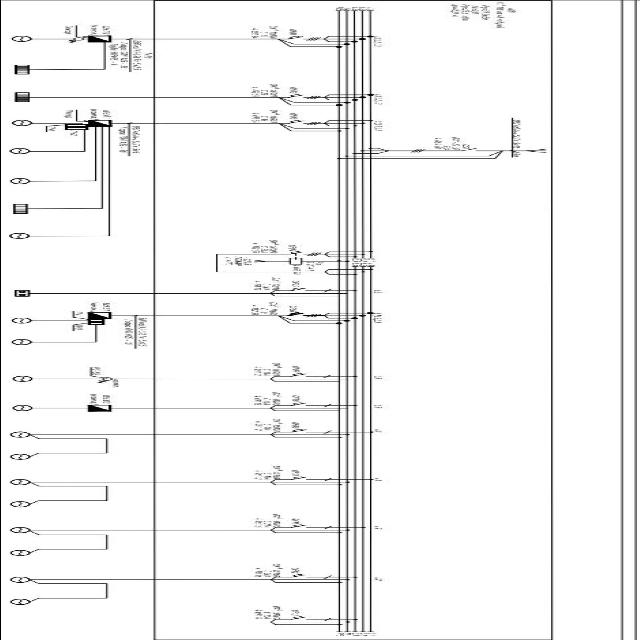-: (493, 1, 517, 28), (429, 136, 462, 150), (248, 302, 280, 316), (249, 362, 281, 376), (247, 83, 279, 97), (250, 418, 282, 432), (249, 392, 281, 406), (248, 25, 280, 39), (250, 514, 282, 528), (249, 276, 281, 290), (250, 466, 282, 480), (247, 109, 279, 123), (250, 564, 282, 578), (252, 606, 284, 620), (247, 240, 279, 253), (290, 262, 324, 274)
ITU: (288, 258, 303, 264)
QF: (287, 615, 331, 621), (288, 573, 332, 579), (288, 524, 332, 530), (288, 476, 332, 482), (288, 428, 332, 434), (288, 402, 332, 408), (288, 372, 332, 378), (290, 287, 334, 293), (282, 312, 322, 318), (283, 250, 323, 256), (280, 120, 320, 126), (283, 94, 323, 100), (284, 36, 324, 42)
QS: (456, 148, 481, 152)
